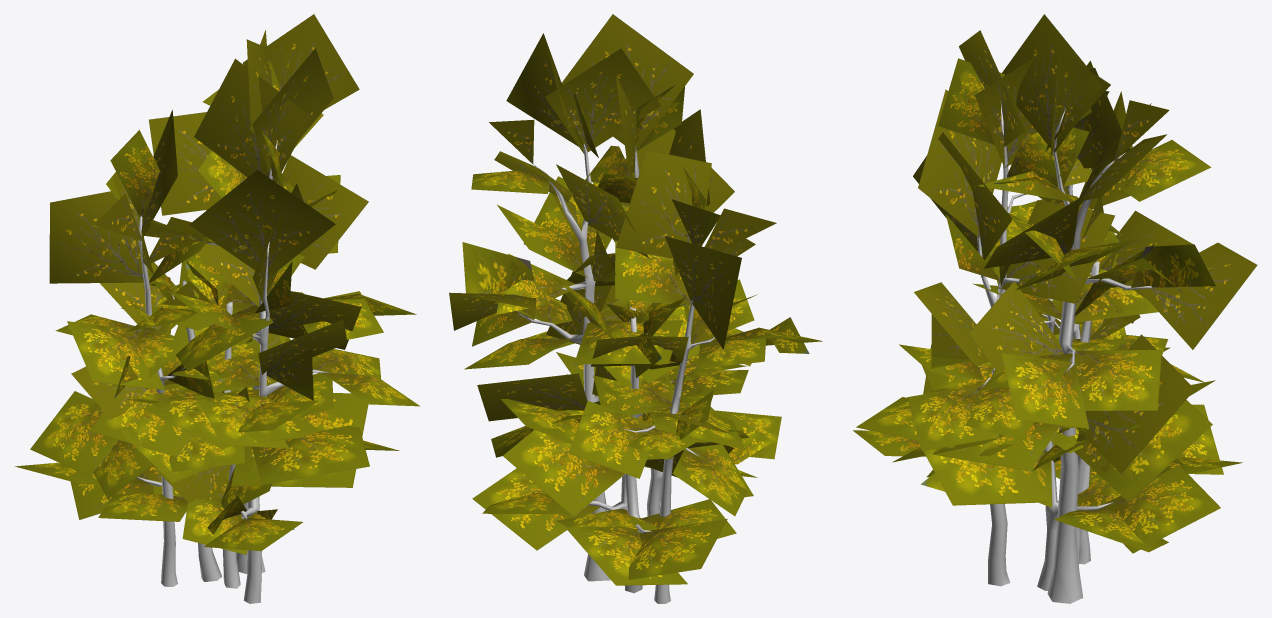
Rendered from JiaYeSiWai1_ShuHuang_5.FBX.
3 renders of one model, left to right at view 1: azimuth 30°, elevation 25°; view 2: azimuth 150°, elevation 25°; view 3: azimuth 270°, elevation 25°, orthographic. The views are drawn at different scales.
Parts seen in each view (by area): view 1: JiaYeSiWai1_ShuHuang_5a, JiaYeSiWai1_ShuHuang_5b; view 2: JiaYeSiWai1_ShuHuang_5a, JiaYeSiWai1_ShuHuang_5b; view 3: JiaYeSiWai1_ShuHuang_5a, JiaYeSiWai1_ShuHuang_5b.
Boxes of the visible parts, x1,y1,x2,y2 form: JiaYeSiWai1_ShuHuang_5a: (15, 14, 419, 554); JiaYeSiWai1_ShuHuang_5b: (136, 140, 330, 603); JiaYeSiWai1_ShuHuang_5a: (449, 14, 822, 585); JiaYeSiWai1_ShuHuang_5b: (518, 144, 714, 603); JiaYeSiWai1_ShuHuang_5a: (853, 14, 1257, 553); JiaYeSiWai1_ShuHuang_5b: (977, 101, 1156, 603).
Bounding box in the file's own units: 1015 × 1569 × 987.
